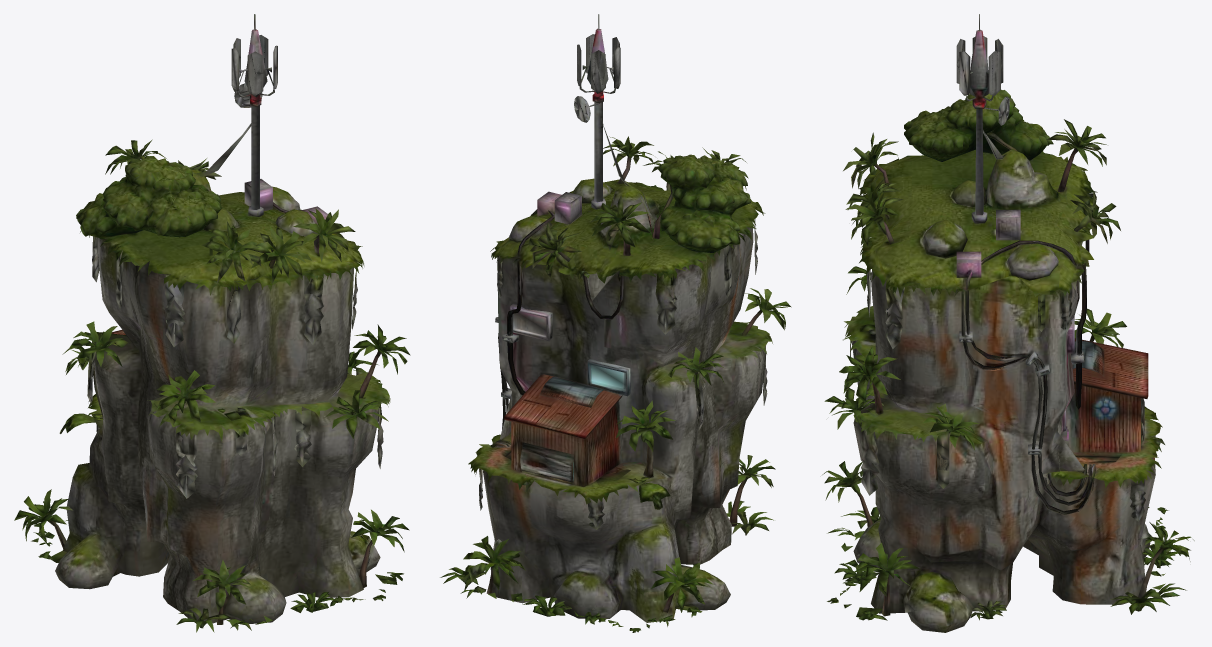
Rendered from karst_tower.glb.
3 renders of one model, left to right at view 1: azimuth 30°, elevation 25°; view 2: azimuth 150°, elevation 25°; view 3: azimuth 270°, elevation 25°, orthographic. The views are drawn at different scales.
Visible parts, largest first — view 1: Body; view 2: Body; view 3: Body.
Boxes of the visible parts, x1,y1,x2,y2 form: Body: [14, 14, 410, 632]; Body: [440, 14, 791, 632]; Body: [822, 14, 1194, 632].
Bounding box in the file's own units: 21.37 × 40 × 24.03.
Materials: 1 (1 with a texture image).
